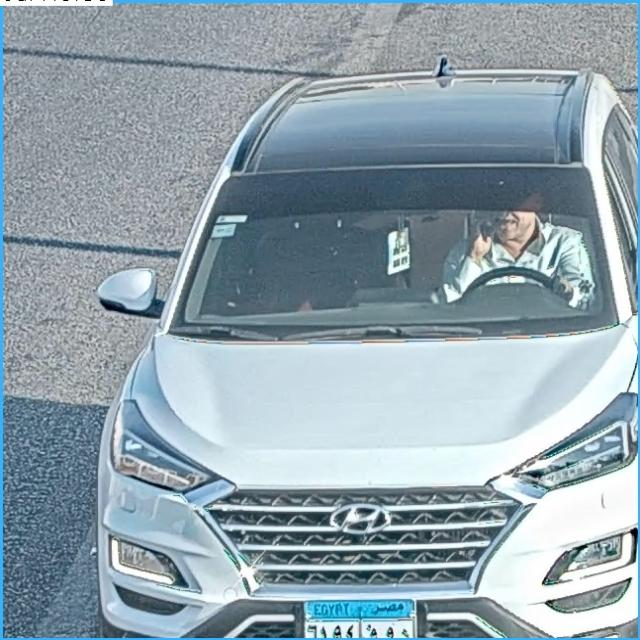windshield: (170, 174, 622, 334)
